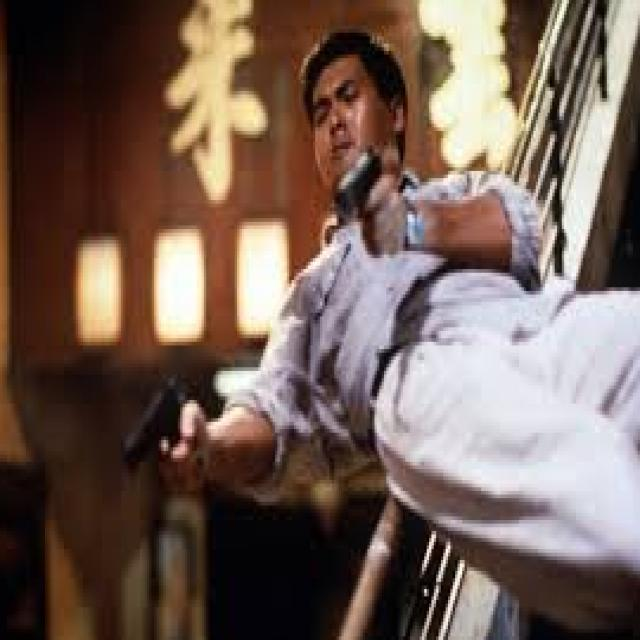gun: (106, 361, 208, 530), (318, 152, 392, 266)
